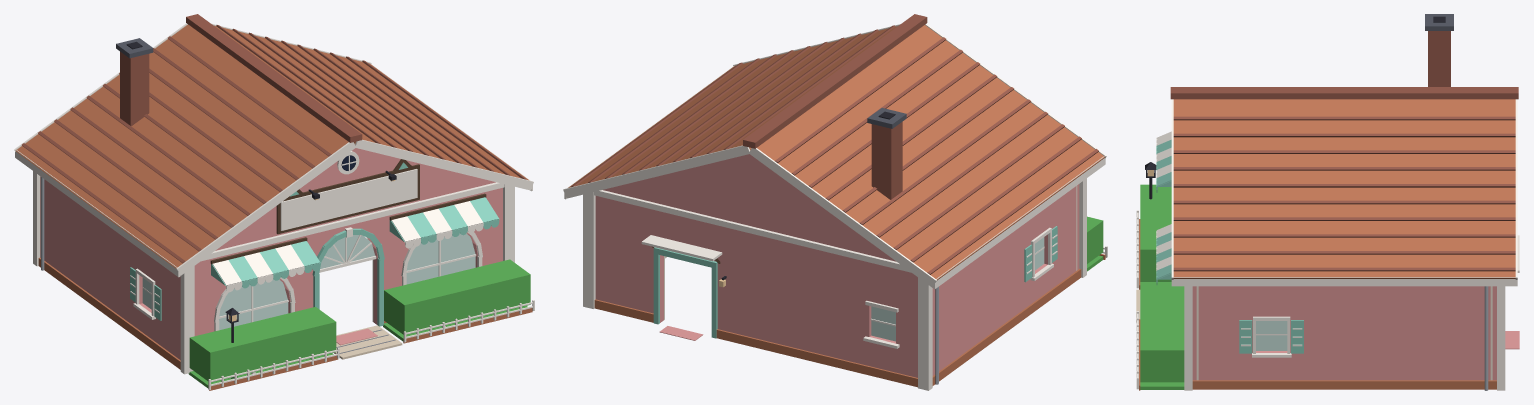
The model's file is CatCafe_Plot_Cafe_Blush.glb.
3 views of the same model, side by side, from view 1: azimuth 30°, elevation 25°; view 2: azimuth 150°, elevation 25°; view 3: azimuth 270°, elevation 25° (orthographic). The views are drawn at different scales.
Visible parts, largest first — view 1: CatCafe_Plot_Cafe_Blush_Roof, CatCafe_Plot_Cafe_Blush, CatCafe_Plot_Cafe_Blush_Paint, CatCafe_Plot_Cafe_Blush_Fireflies, CatCafe_Plot_Cafe_Blush_Glass, CatCafe_Plot_Cafe_Blush_SignBoard, CatCafe_Plot_Cafe_Blush_Flowers; view 2: CatCafe_Plot_Cafe_Blush_Roof, CatCafe_Plot_Cafe_Blush_Paint, CatCafe_Plot_Cafe_Blush, CatCafe_Plot_Cafe_Blush_Glass, CatCafe_Plot_Cafe_Blush_Fireflies; view 3: CatCafe_Plot_Cafe_Blush_Roof, CatCafe_Plot_Cafe_Blush_Paint, CatCafe_Plot_Cafe_Blush, CatCafe_Plot_Cafe_Blush_Fireflies, CatCafe_Plot_Cafe_Blush_Glass, CatCafe_Plot_Cafe_Blush_Wallpaper, CatCafe_Plot_Cafe_Blush_Flowers.
Boxes of the visible parts, left/top/right/bottom form: CatCafe_Plot_Cafe_Blush_Roof: left=14, top=14, right=533, bottom=277; CatCafe_Plot_Cafe_Blush: left=33, top=151, right=534, bottom=390; CatCafe_Plot_Cafe_Blush_Paint: left=40, top=148, right=502, bottom=359; CatCafe_Plot_Cafe_Blush_Fireflies: left=189, top=259, right=530, bottom=382; CatCafe_Plot_Cafe_Blush_Glass: left=142, top=233, right=475, bottom=330; CatCafe_Plot_Cafe_Blush_SignBoard: left=280, top=169, right=417, bottom=230; CatCafe_Plot_Cafe_Blush_Flowers: left=188, top=306, right=527, bottom=388; CatCafe_Plot_Cafe_Blush_Roof: left=563, top=14, right=1106, bottom=289; CatCafe_Plot_Cafe_Blush_Paint: left=595, top=154, right=1079, bottom=377; CatCafe_Plot_Cafe_Blush: left=583, top=178, right=1107, bottom=390; CatCafe_Plot_Cafe_Blush_Glass: left=871, top=237, right=1044, bottom=341; CatCafe_Plot_Cafe_Blush_Fireflies: left=1087, top=216, right=1103, bottom=263; CatCafe_Plot_Cafe_Blush_Roof: left=1170, top=14, right=1518, bottom=286; CatCafe_Plot_Cafe_Blush_Paint: left=1192, top=286, right=1496, bottom=380; CatCafe_Plot_Cafe_Blush: left=1136, top=131, right=1519, bottom=390; CatCafe_Plot_Cafe_Blush_Fireflies: left=1140, top=184, right=1184, bottom=382; CatCafe_Plot_Cafe_Blush_Glass: left=1256, top=321, right=1287, bottom=350; CatCafe_Plot_Cafe_Blush_Wallpaper: left=1196, top=286, right=1492, bottom=380; CatCafe_Plot_Cafe_Blush_Flowers: left=1140, top=282, right=1184, bottom=389.
Bounding box in the file's own units: 41.86 × 25.3 × 36.8.
Materials: 1 (1 with a texture image).
